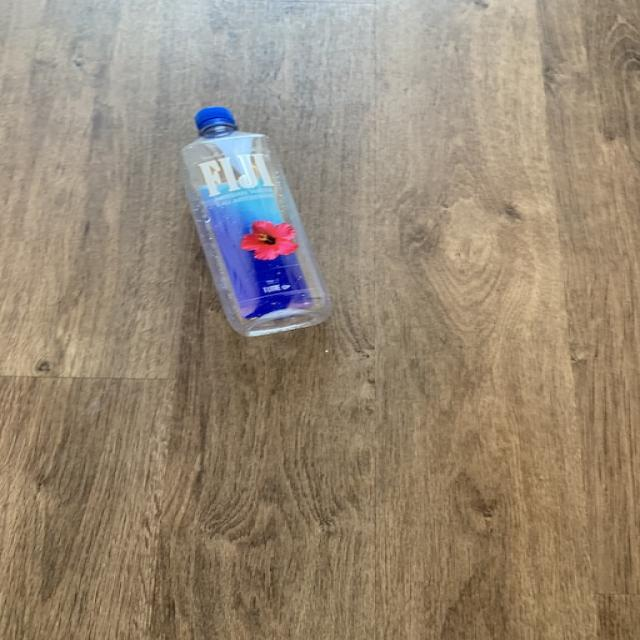Waste: (181, 106, 331, 336)
